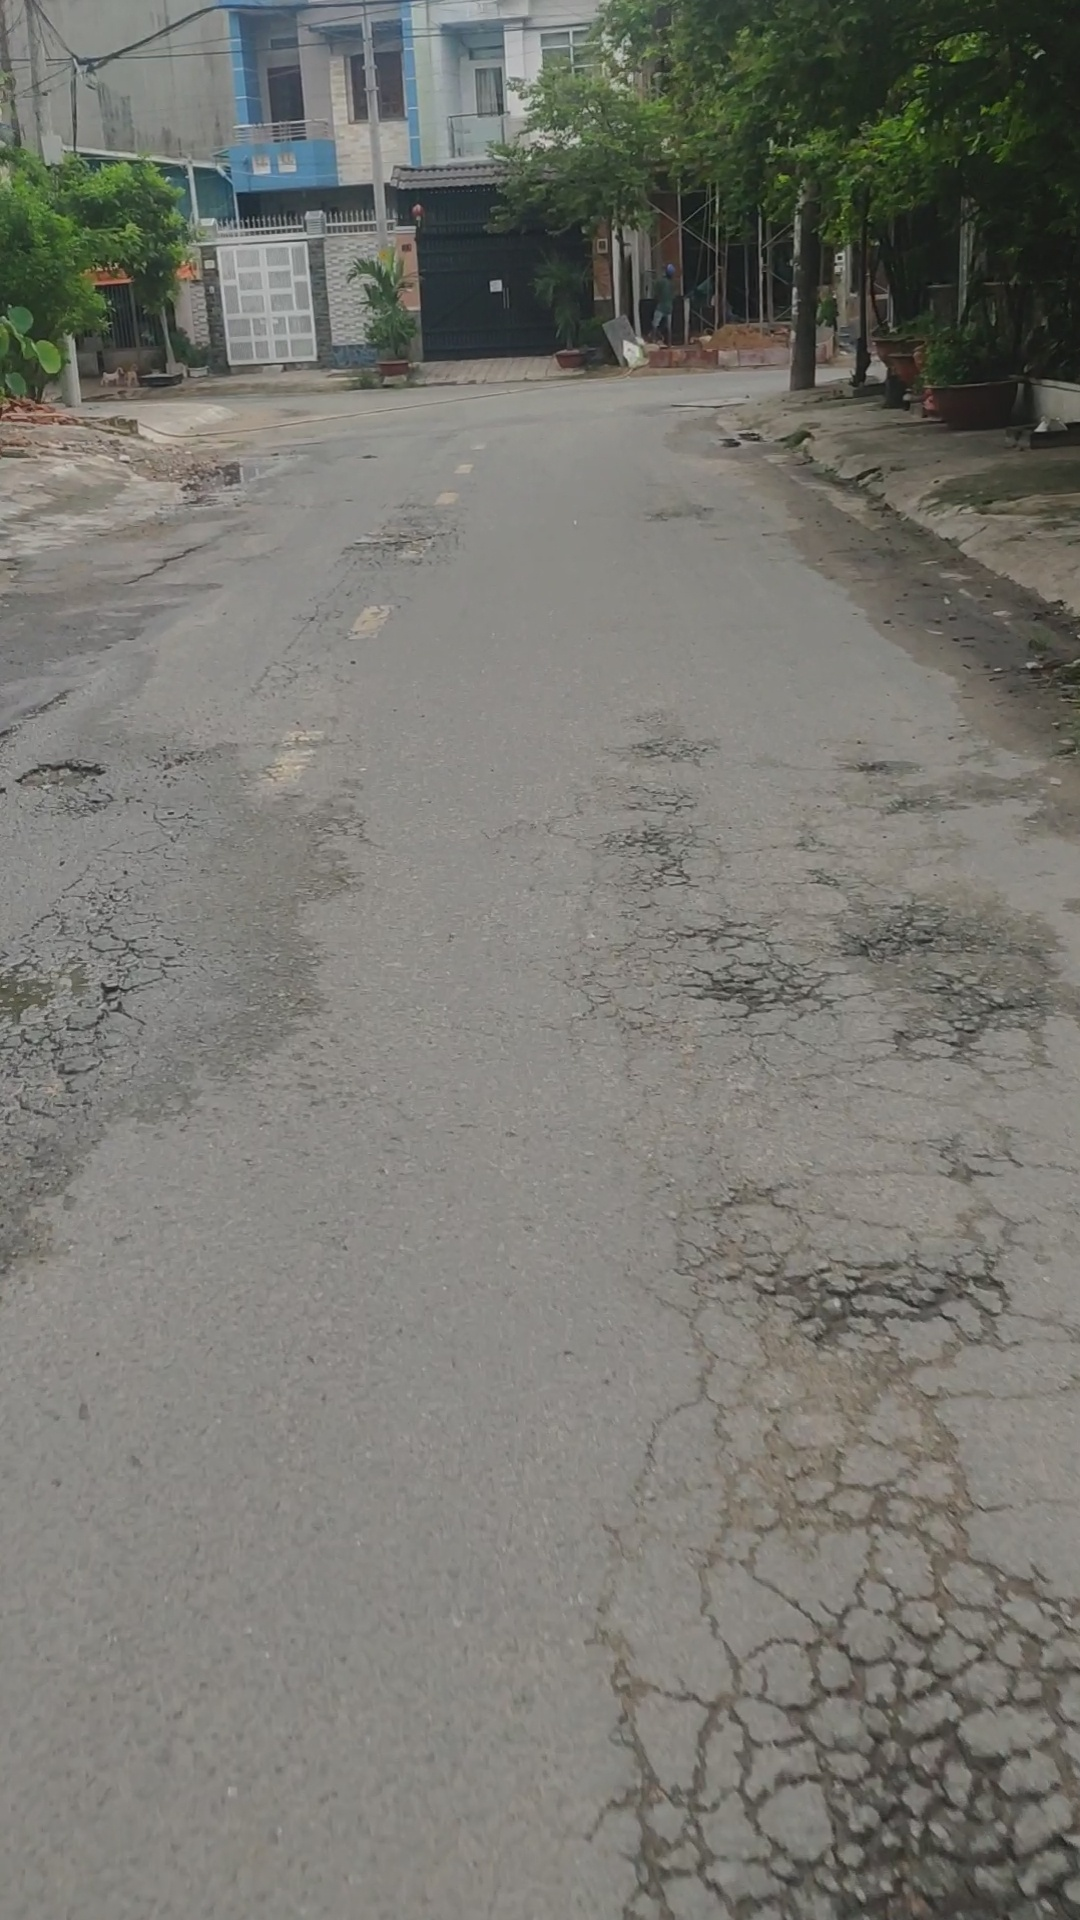hole: (835, 907, 1073, 1029), (732, 1265, 1005, 1345), (645, 919, 836, 1029), (1, 943, 136, 1069), (585, 815, 732, 897), (604, 705, 741, 774), (339, 513, 463, 574), (175, 450, 301, 506), (1, 760, 121, 793), (874, 793, 967, 820), (824, 754, 909, 779), (713, 426, 766, 451)
